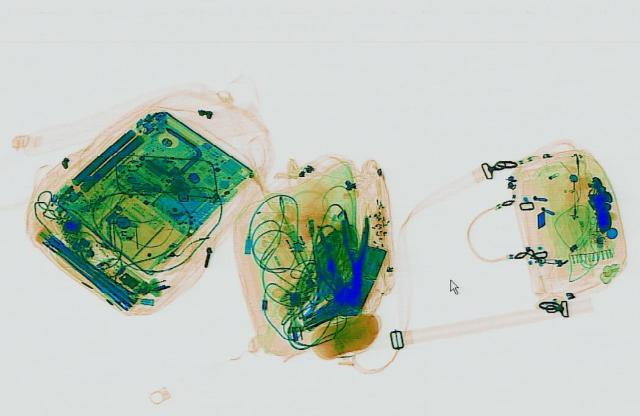Pliers: (338, 214, 372, 291)
